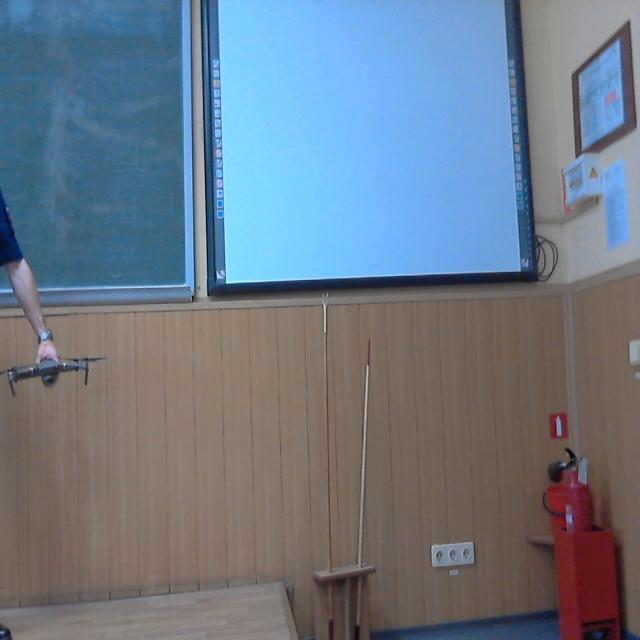drone: (0, 344, 114, 400)
